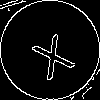X: (25, 25, 77, 81)
